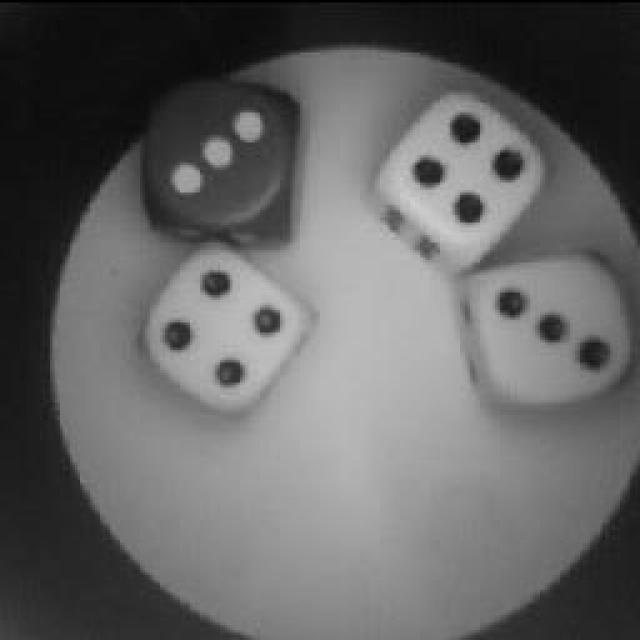dice_3: (460, 250, 640, 408), (145, 72, 300, 238)
dice_4: (372, 92, 550, 258), (140, 252, 302, 410)
